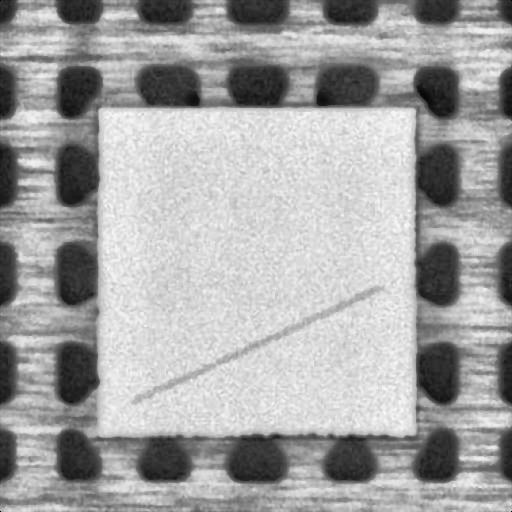DIE_CRACK: (137, 278, 392, 387)
